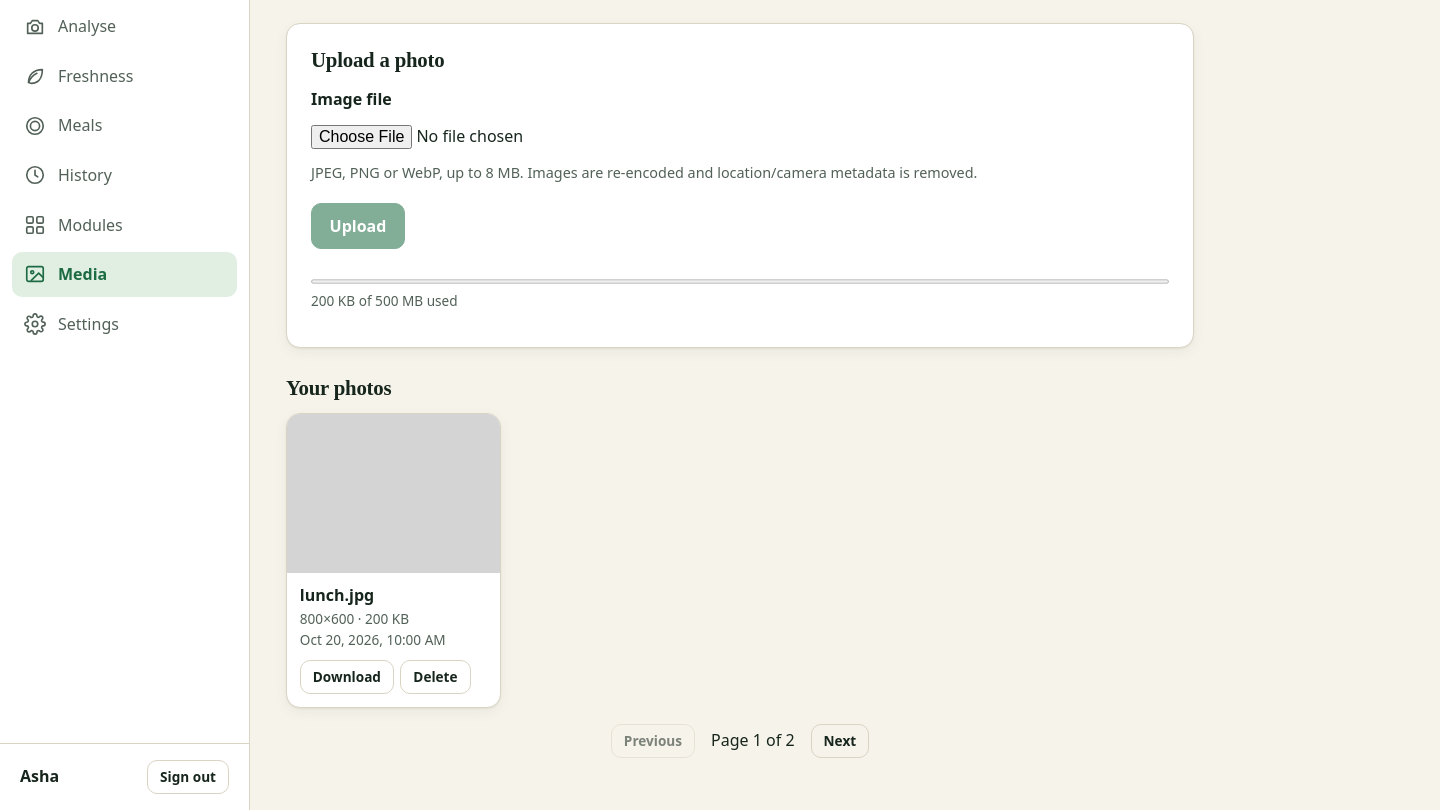
media library › paginates
(page scrolled)
expect the text "Page 1 of 2" is shown: met, box left=711, top=728, right=794, bottom=753
Click the button "Next".
click(840, 741)  # box left=811, top=724, right=869, bottom=758
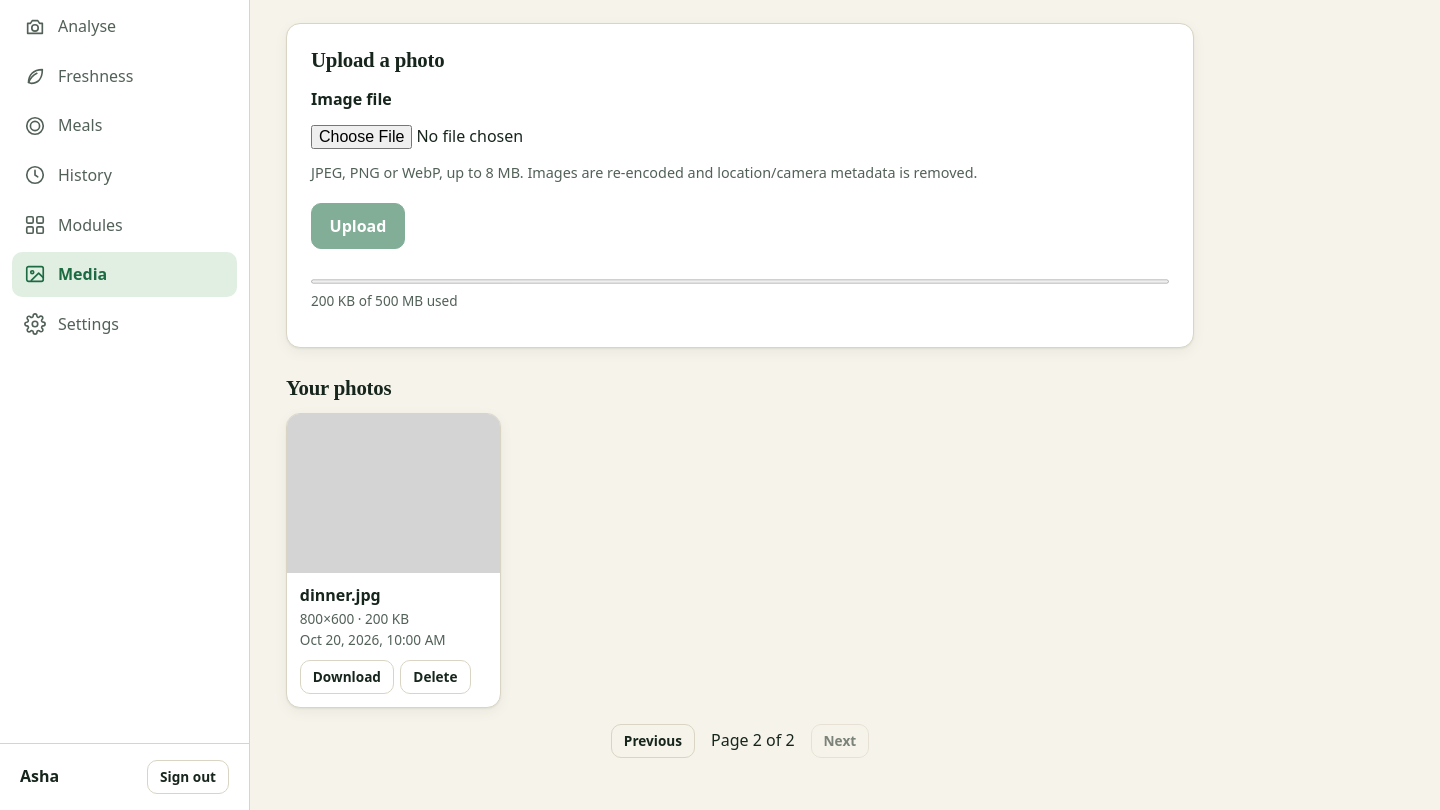
expect the text "dinner.jpg" is shown: met, box left=300, top=584, right=381, bottom=606
